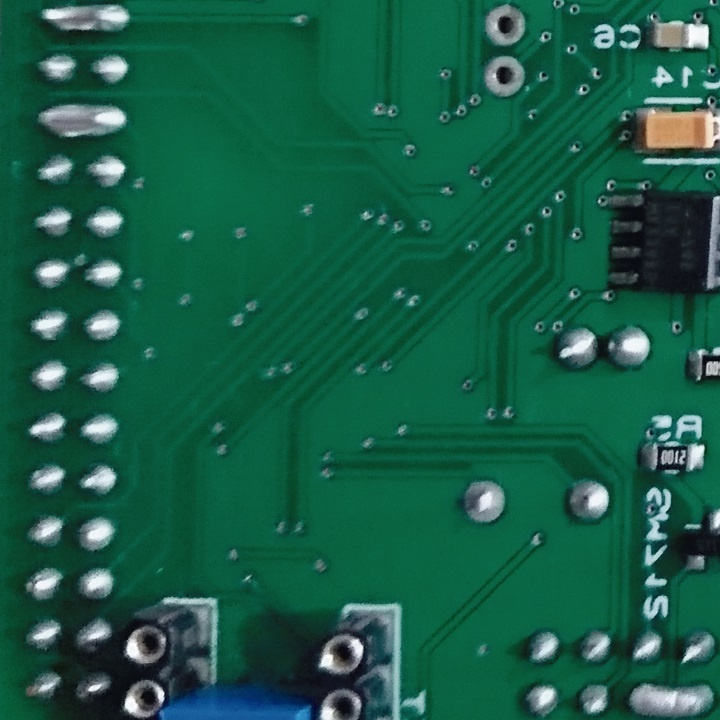F: (460, 478, 508, 529), (481, 2, 533, 48), (481, 53, 529, 98)
P: (37, 99, 130, 142), (624, 678, 719, 720), (38, 1, 134, 40)
